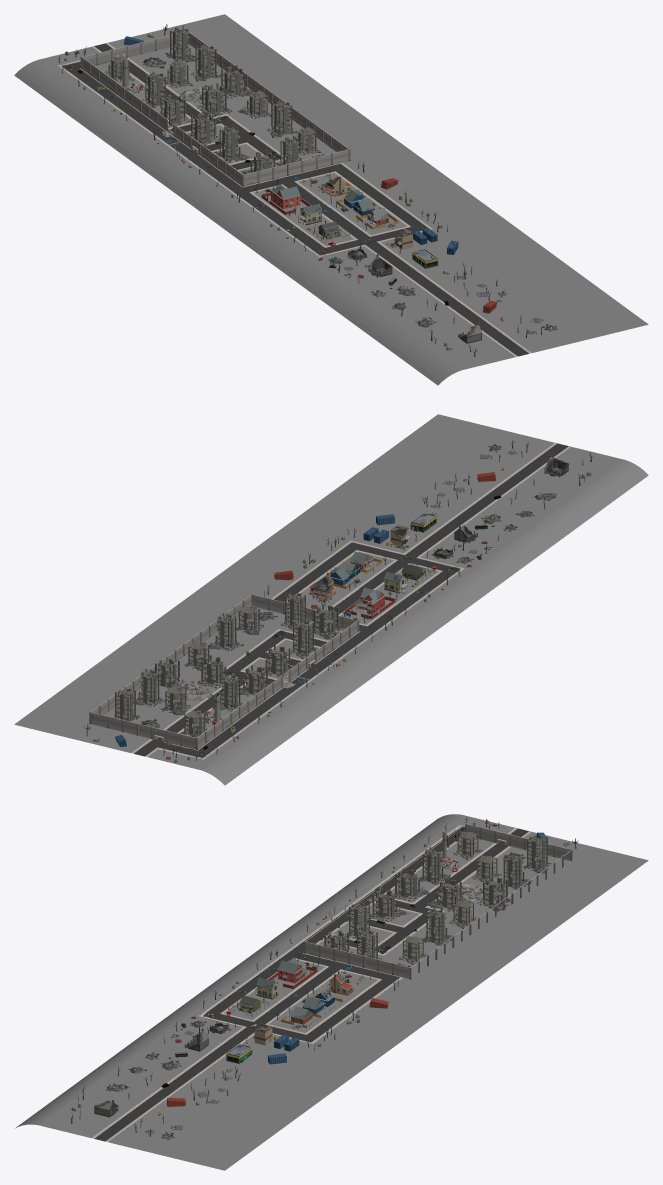
Rendered from _lvl_city_bg_3.glb.
The picture shows the model from 3 angles, top to bottom: view 1: azimuth 30°, elevation 25°; view 2: azimuth 150°, elevation 25°; view 3: azimuth 330°, elevation 25°; orthographic projection.
Visible parts, largest first — view 1: bg_ground_3, bg_near_plane_city, SA_Prop_Citywall_Full, SA_Env_Road_Full_3_part_2, SA_Env_Road_Full_3_part_4, SA_Env_Road_Full_3, SA_Env_Road_Full_3_part_1, SA_Env_Road_Full_3_part_3, bg_ground_3_part_4, bg_ground_3_part_5, SA_Bld_Building_Damaged_20, SA_Bld_Building_Damaged_13 (+11 smaller); view 2: bg_ground_3, bg_near_plane_city, SA_Prop_Citywall_Full, SA_Env_Road_Full_3, SA_Env_Road_Full_3_part_2, SA_Env_Road_Full_3_part_4, SA_Env_Road_Full_3_part_1, SA_Env_Road_Full_3_part_3, bg_ground_3_part_4, bg_ground_3_part_5, SA_Bld_Building_Damaged_13, SA_Bld_Building_Damaged_25 (+14 smaller); view 3: bg_ground_3, bg_near_plane_city, SA_Prop_Citywall_Full, SA_Env_Road_Full_3_part_2, SA_Env_Road_Full_3_part_4, SA_Env_Road_Full_3_part_1, SA_Env_Road_Full_3, SA_Env_Road_Full_3_part_3, bg_ground_3_part_4, bg_ground_3_part_5, bg_ground_3_part_1, SA_Bld_Building_Damaged_08 (+14 smaller).
Boxes of the visible parts, bbox=[...] form: bg_ground_3: bbox=[38, 14, 648, 369]; bg_near_plane_city: bbox=[14, 60, 461, 385]; SA_Prop_Citywall_Full: bbox=[80, 30, 350, 186]; SA_Env_Road_Full_3_part_2: bbox=[270, 162, 432, 244]; SA_Env_Road_Full_3_part_4: bbox=[364, 242, 531, 356]; SA_Env_Road_Full_3: bbox=[58, 42, 208, 140]; SA_Env_Road_Full_3_part_1: bbox=[161, 114, 283, 190]; SA_Env_Road_Full_3_part_3: bbox=[229, 180, 364, 257]; bg_ground_3_part_4: bbox=[298, 173, 406, 234]; bg_ground_3_part_5: bbox=[253, 187, 354, 245]; SA_Bld_Building_Damaged_20: bbox=[190, 44, 221, 81]; SA_Bld_Building_Damaged_13: bbox=[266, 100, 297, 137]; bg_ground_3: bbox=[14, 414, 624, 769]; bg_near_plane_city: bbox=[201, 460, 648, 785]; SA_Prop_Citywall_Full: bbox=[89, 593, 359, 749]; SA_Env_Road_Full_3: bbox=[131, 677, 305, 759]; SA_Env_Road_Full_3_part_2: bbox=[259, 540, 415, 615]; SA_Env_Road_Full_3_part_4: bbox=[404, 442, 570, 557]; SA_Env_Road_Full_3_part_1: bbox=[223, 629, 373, 685]; SA_Env_Road_Full_3_part_3: bbox=[359, 557, 464, 634]; bg_ground_3_part_4: bbox=[301, 551, 393, 610]; bg_ground_3_part_5: bbox=[340, 564, 438, 624]; SA_Bld_Building_Damaged_13: bbox=[209, 613, 243, 650]; SA_Bld_Building_Damaged_25: bbox=[311, 604, 343, 639]; bg_ground_3: bbox=[38, 815, 648, 1170]; bg_near_plane_city: bbox=[15, 814, 461, 1128]; SA_Prop_Citywall_Full: bbox=[303, 823, 572, 979]; SA_Env_Road_Full_3_part_2: bbox=[247, 960, 402, 1043]; SA_Env_Road_Full_3_part_4: bbox=[92, 1027, 254, 1141]; SA_Env_Road_Full_3_part_1: bbox=[289, 899, 444, 955]; SA_Env_Road_Full_3: bbox=[357, 825, 531, 907]; SA_Env_Road_Full_3_part_3: bbox=[198, 950, 330, 1027]; bg_ground_3_part_4: bbox=[269, 971, 377, 1032]; bg_ground_3_part_5: bbox=[224, 960, 324, 1020]; bg_ground_3_part_1: bbox=[386, 839, 494, 902]; SA_Bld_Building_Damaged_08: bbox=[522, 835, 551, 873].
Size of the model in its own units: 129 by 23.24 by 450.
1 material, 1 textured.
